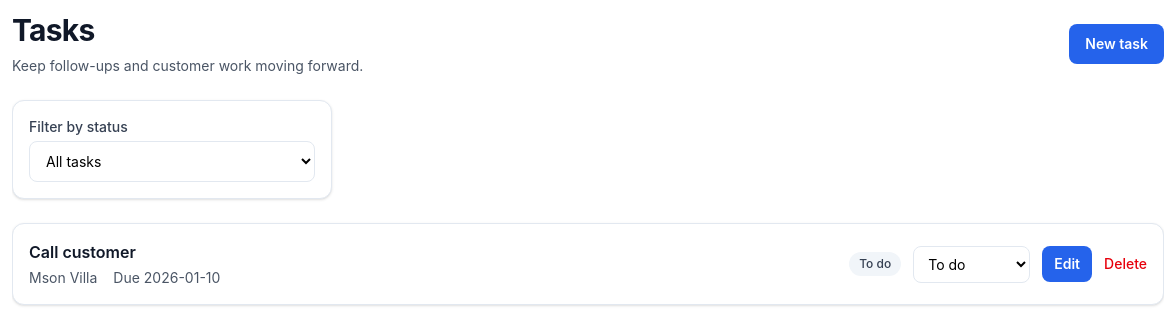
Test case: CRM list pages › updates a task status and deletes the task after confirmation
This screenshot has width=1164, height=327.
Expected: the heading "Call customer" is shown, [29,242,136,262]
Select "Done" in the dropdown named "Update status for Call customer". click: (972, 264)
box: [913,246,1030,282]
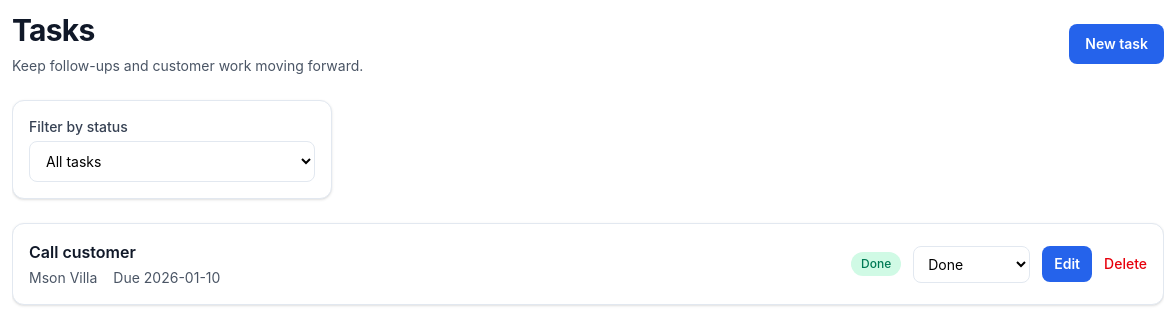
Click the button "Delete". click: (1126, 264)
box: [1104,254,1147,274]
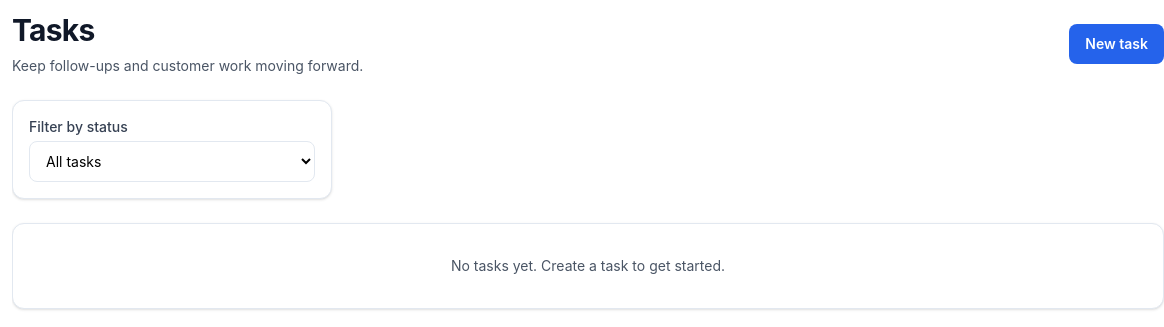
Now the heading "Call customer" is gone
